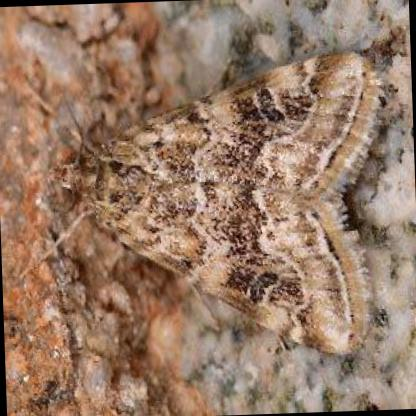Hellula undalis: (4, 44, 384, 365)
